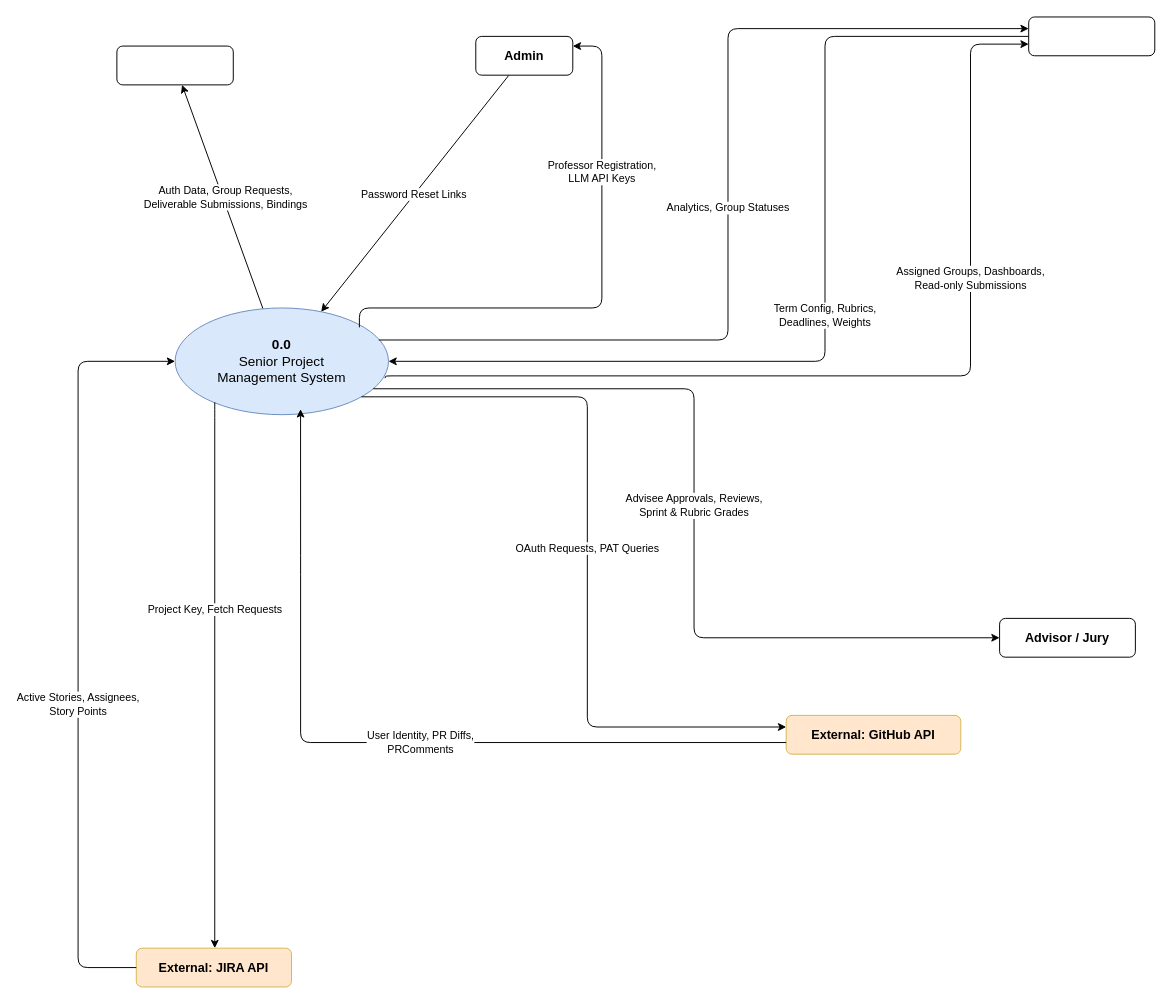
The diagram is 1172 pixels wide and 1004 high, and some of its shapes have lost their labels. Each missing label, with the box of its shape:
Coordinator: (1028, 16, 1155, 56)
Student: (116, 45, 233, 85)
